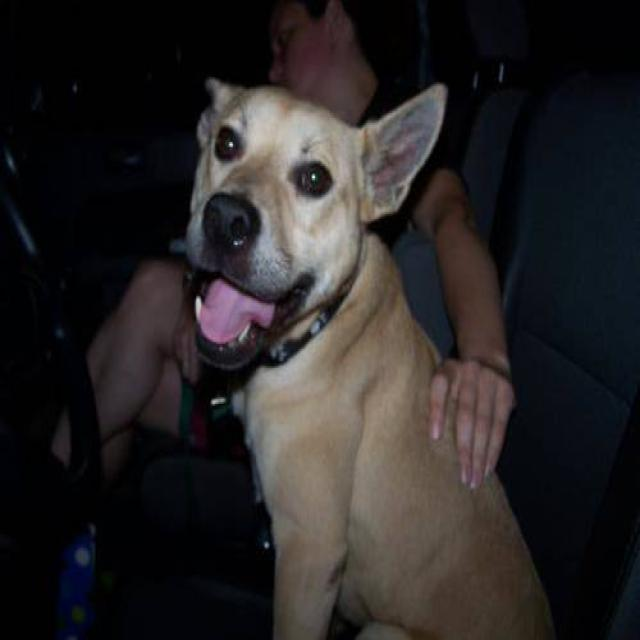Dog: (183, 67, 452, 376)
